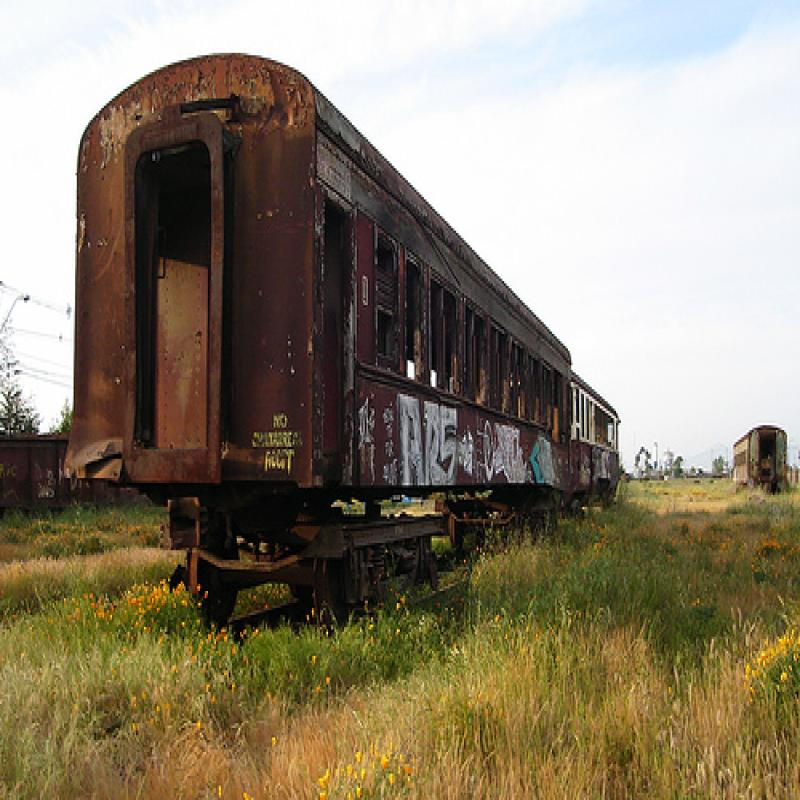train: (64, 52, 624, 636), (734, 424, 790, 489)
